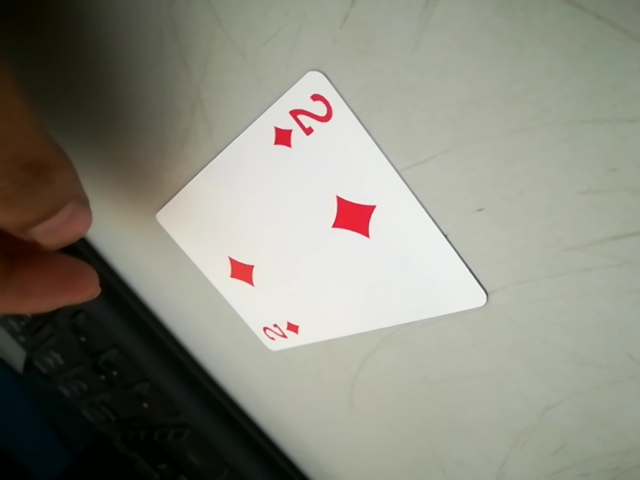fk 2: (261, 85, 341, 152), (253, 311, 309, 353)
